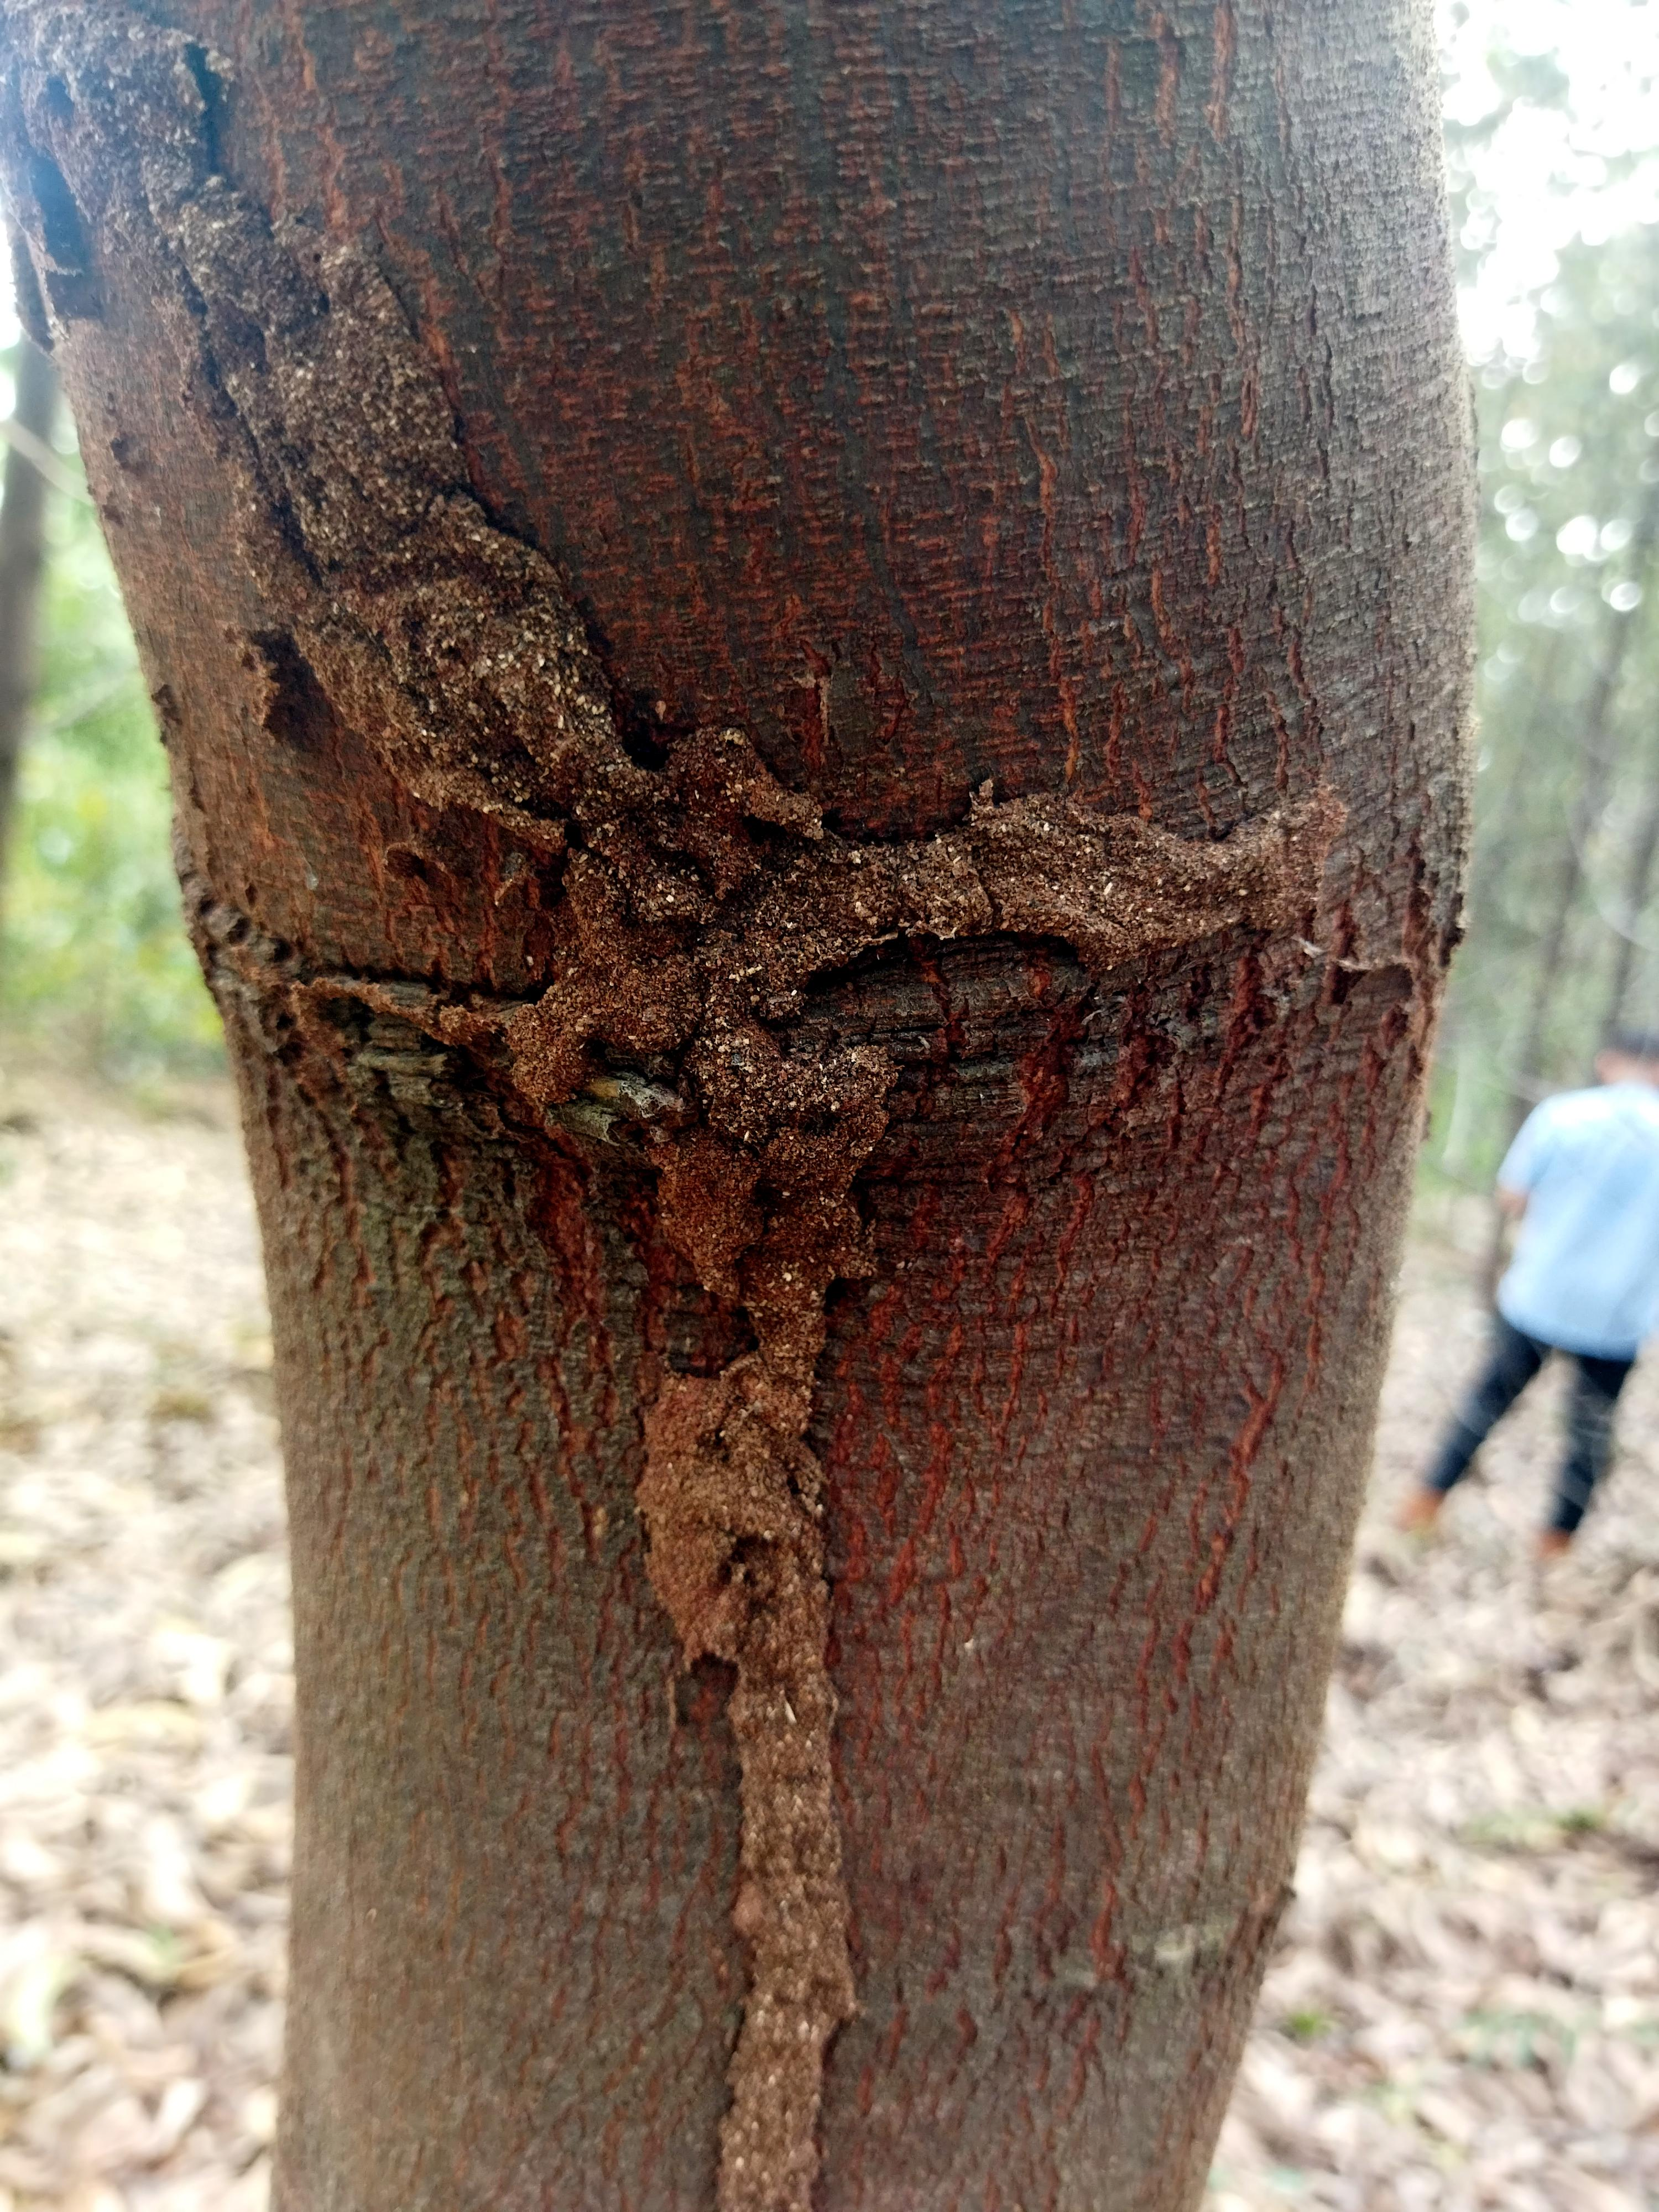Termite - Nest: (0, 0, 1417, 2212)
